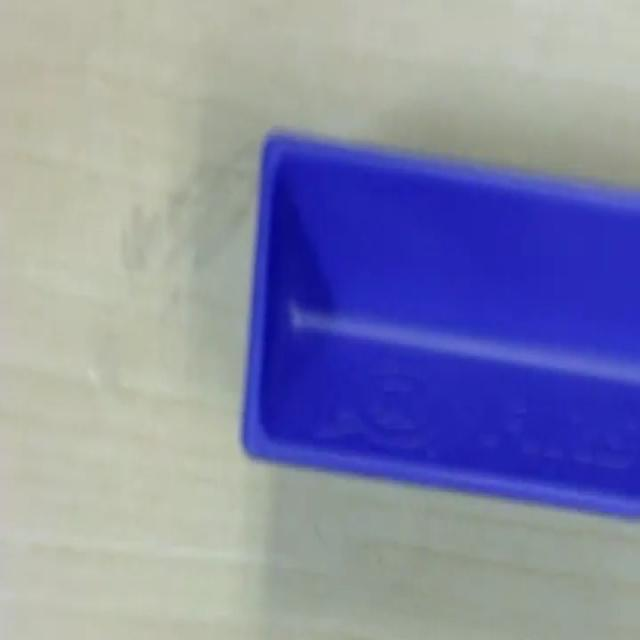blue_block: (240, 122, 638, 518)
